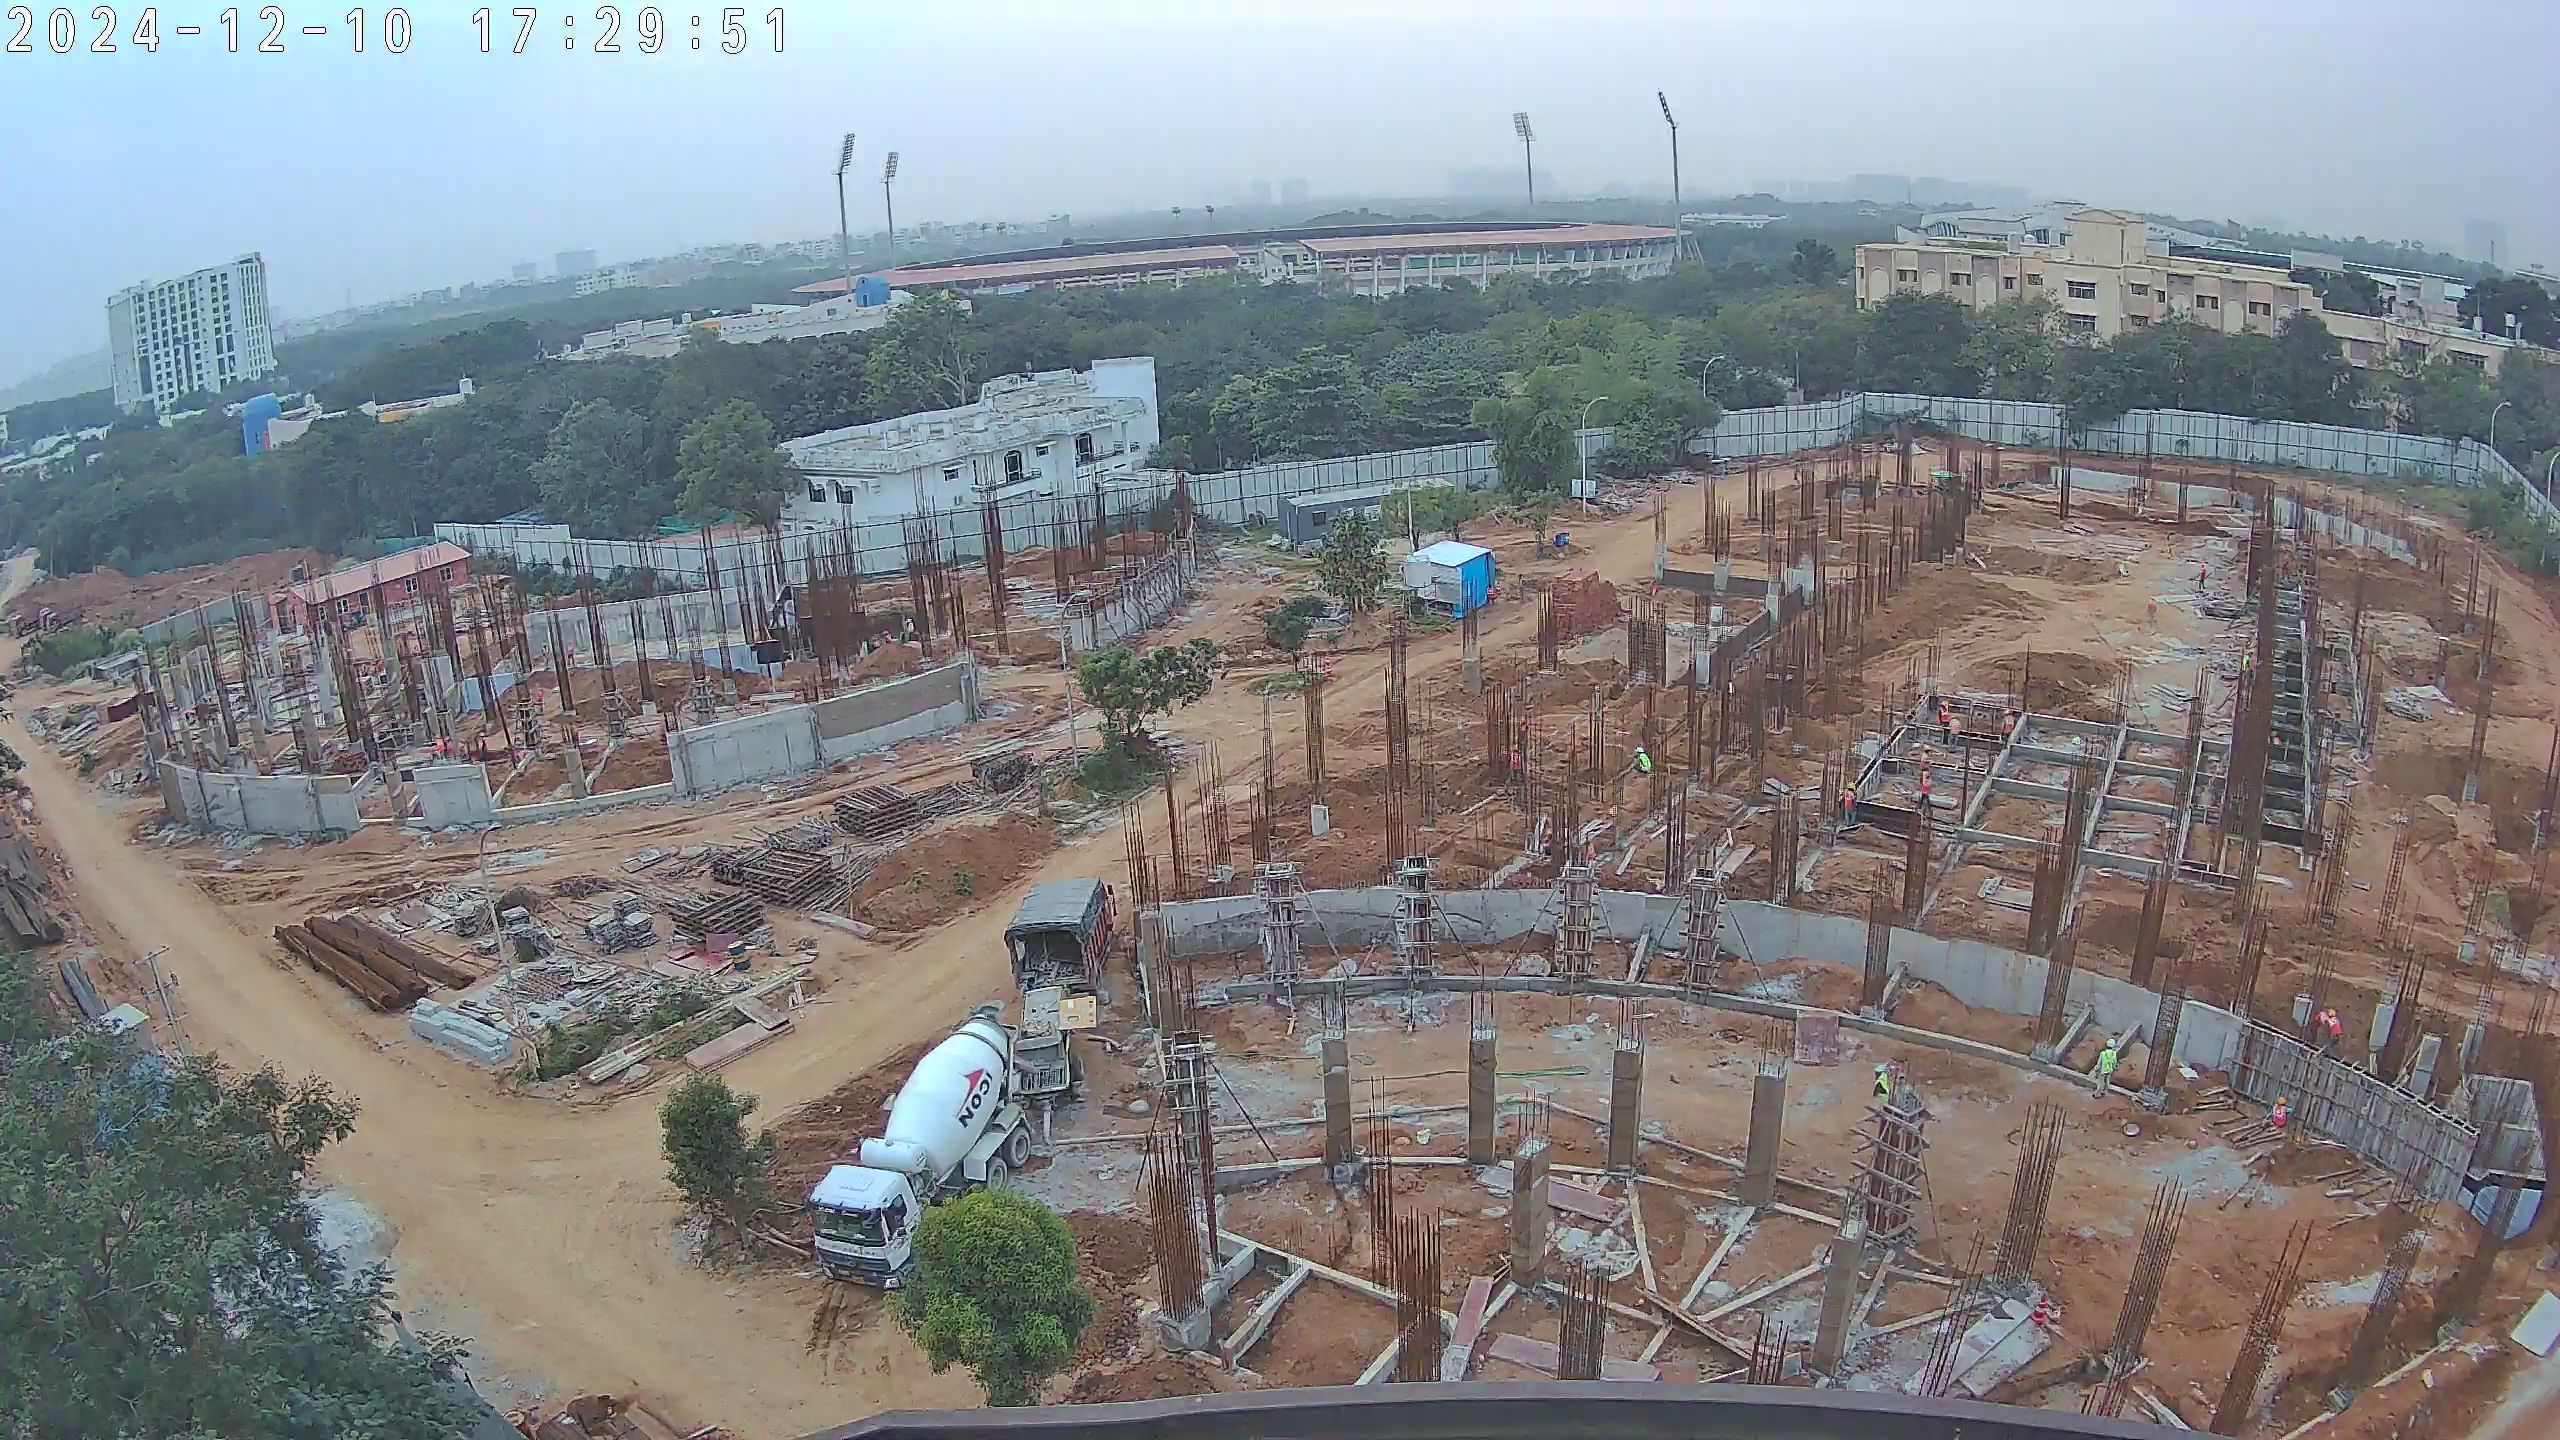bulldozer: (1872, 458, 2006, 527)
truck: (808, 1018, 1033, 1297), (1006, 877, 1118, 1100)
worker: (2299, 999, 2350, 1058), (1912, 766, 1941, 835), (2264, 1089, 2295, 1150), (2237, 644, 2263, 714), (2089, 1037, 2114, 1108), (1870, 1062, 1895, 1124), (1996, 704, 2021, 755), (2143, 588, 2165, 641), (1625, 743, 1650, 785), (1508, 743, 1527, 787), (1841, 781, 1858, 830), (1540, 819, 1559, 860), (1581, 836, 1601, 872), (1945, 716, 1962, 758), (537, 639, 555, 678), (1934, 696, 1954, 731), (431, 733, 451, 766), (2278, 553, 2296, 586), (473, 731, 489, 766), (563, 640, 581, 671), (1483, 581, 1500, 609), (2195, 565, 2210, 592), (457, 735, 472, 761), (444, 735, 457, 761)
